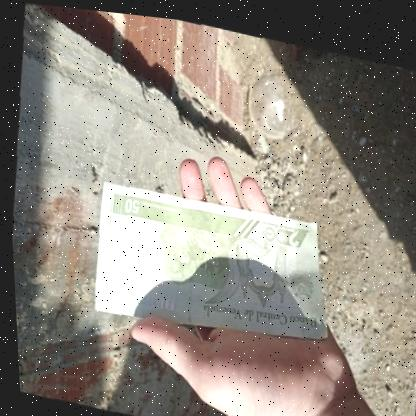fifty-back-vef: (85, 169, 340, 357)
